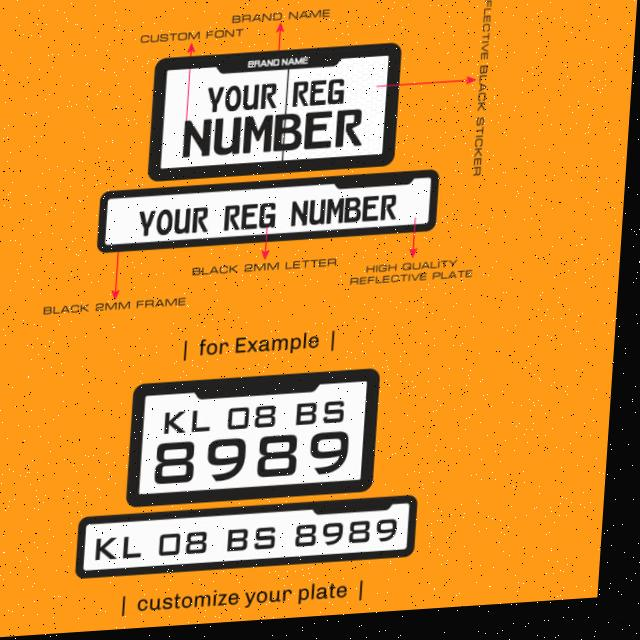plate: (131, 370, 386, 510), (80, 499, 430, 581)
